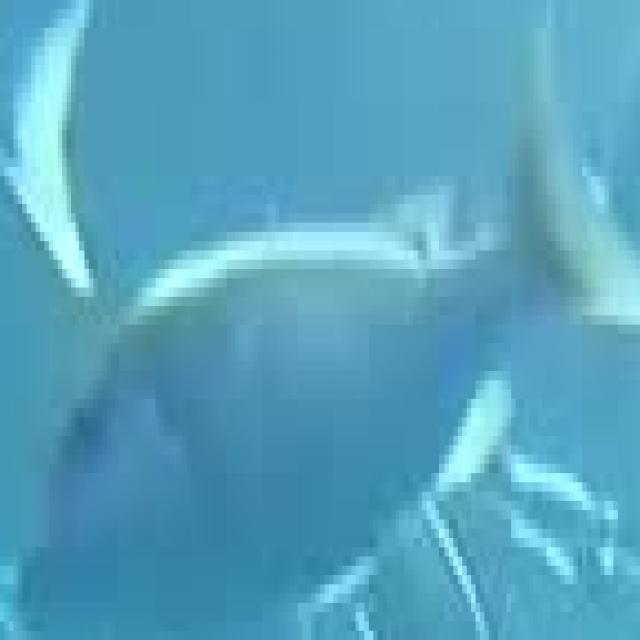fish: (0, 9, 636, 640)
